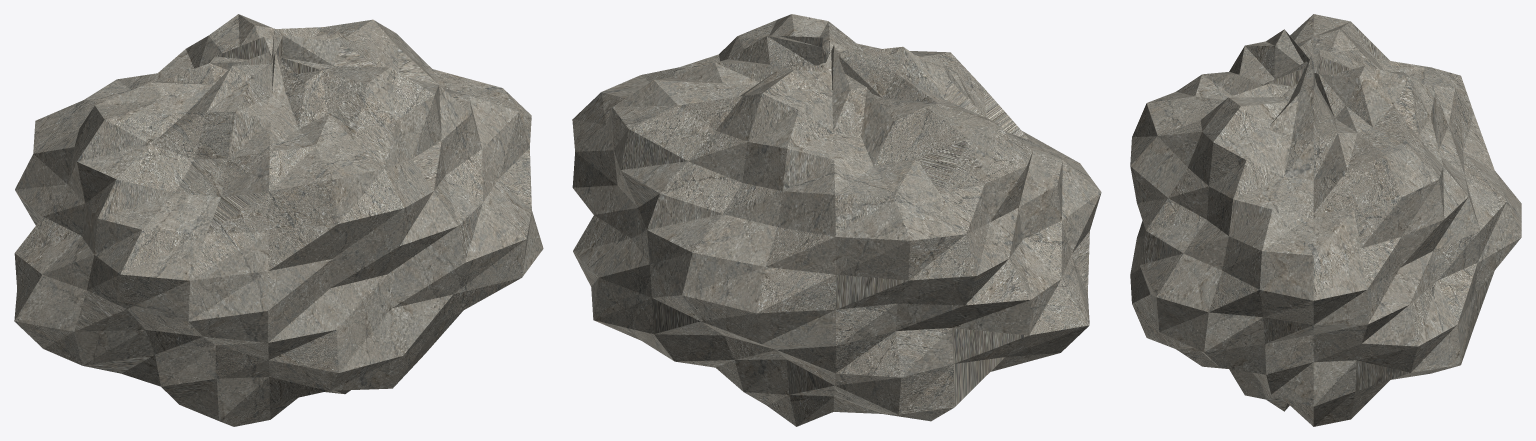
Rendered from boulder_1.glb.
The picture shows the model from 3 angles, left to right: view 1: azimuth 30°, elevation 25°; view 2: azimuth 150°, elevation 25°; view 3: azimuth 270°, elevation 25°; orthographic projection. The views are drawn at different scales.
Parts seen in each view (by area): view 1: boulder_1; view 2: boulder_1; view 3: boulder_1.
Boxes of the visible parts, box(x1,y1,x2,y2) form: boulder_1: box(14, 14, 543, 426); boulder_1: box(572, 14, 1101, 426); boulder_1: box(1130, 14, 1521, 426).
Bounding box in the file's own units: 4.94 × 3.32 × 3.48.
